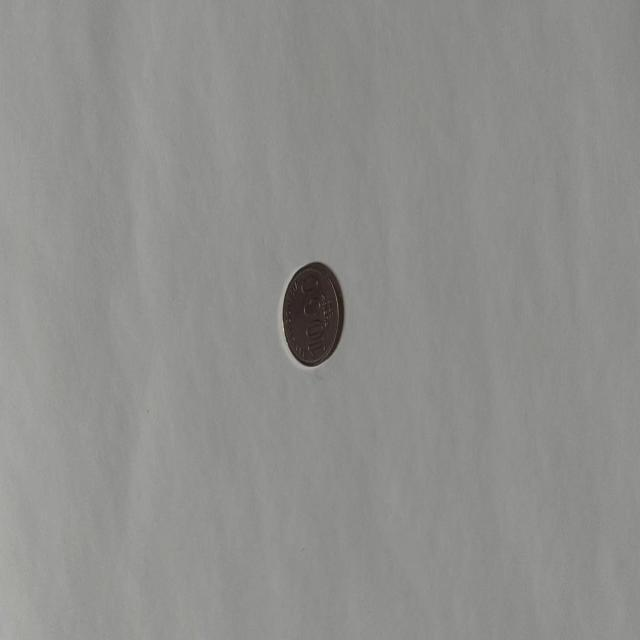seribu rupiah koin: (280, 260, 342, 368)
